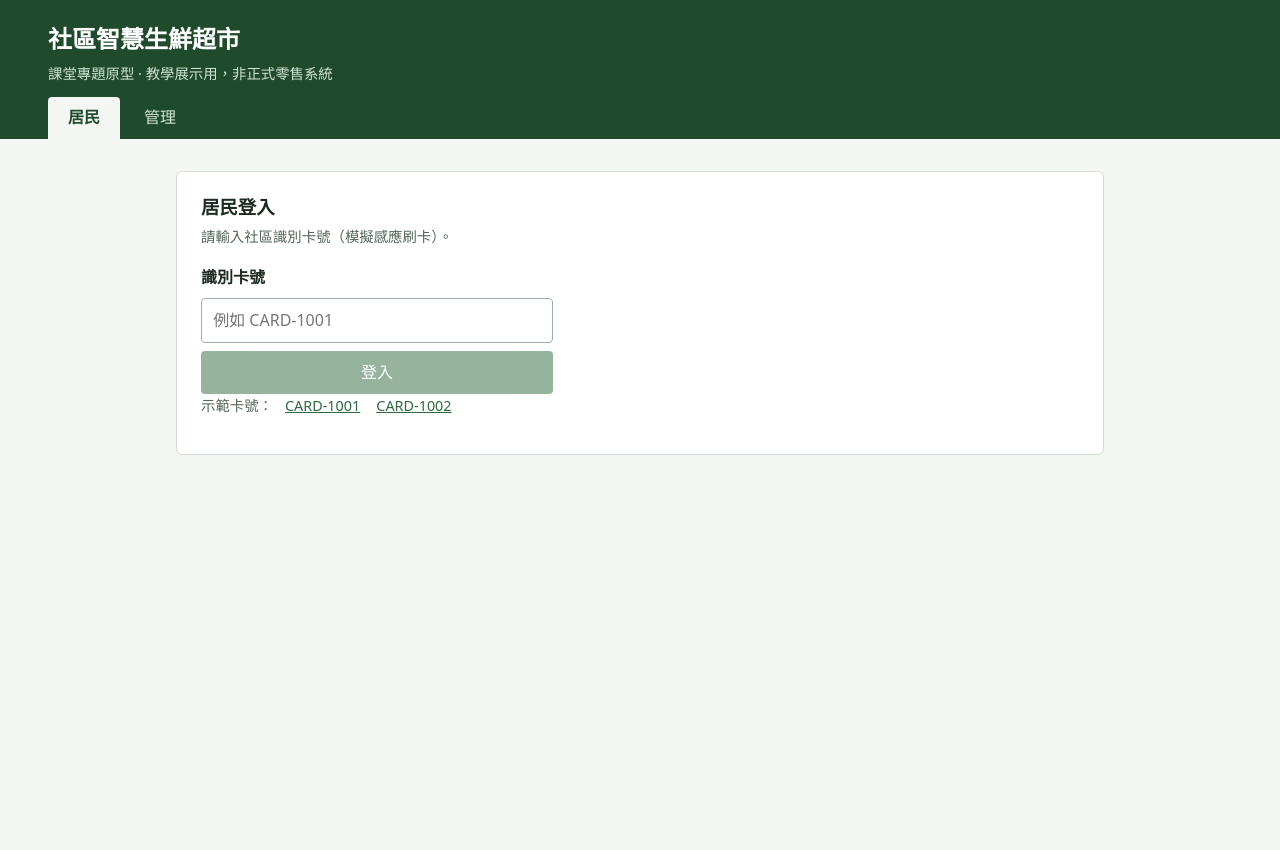
Test: shows why a replayed packet was rejected, with later steps marked not-run
Type "CARD-1001" into the field labelled "識別卡號" at (377, 321), box x1=201 y1=298 x2=553 y2=343
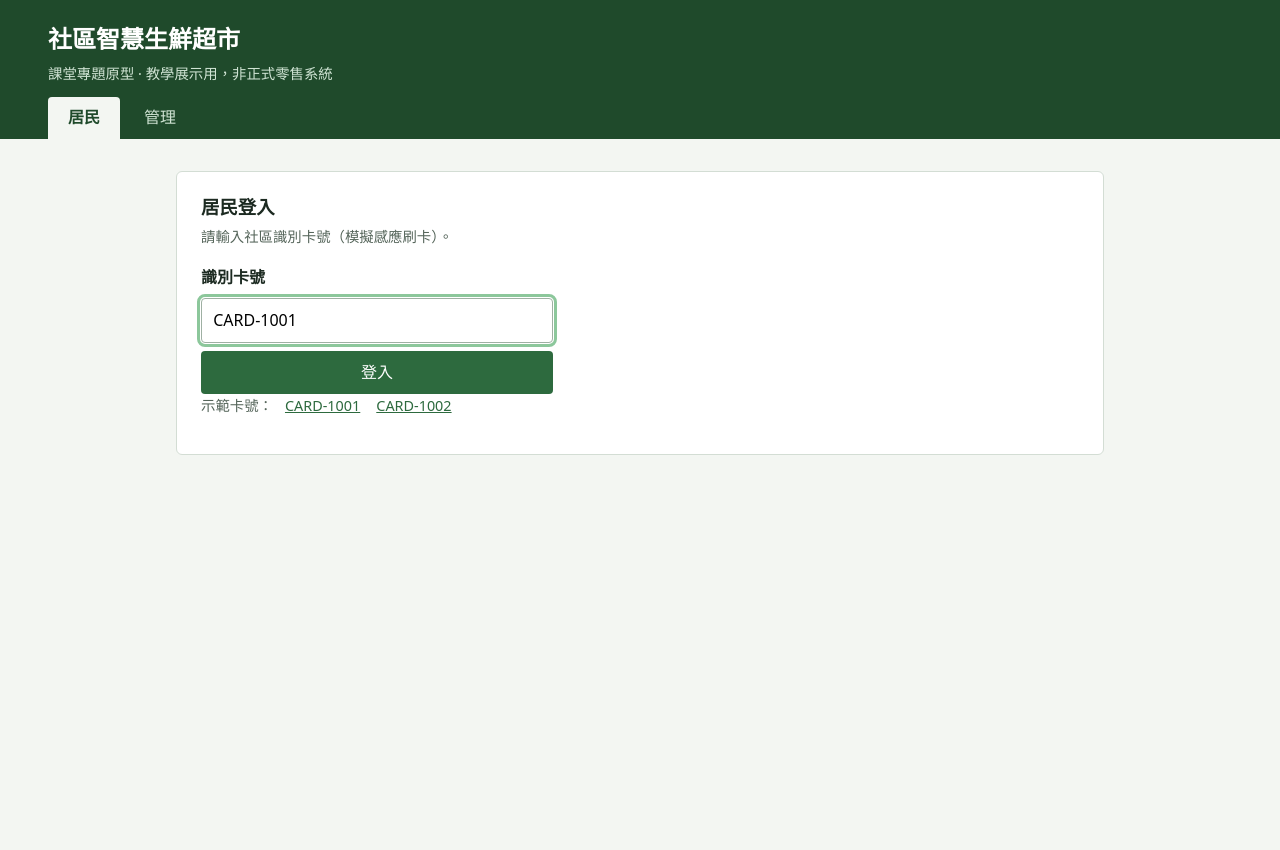
Click the button "登入" at (377, 373), box x1=201 y1=351 x2=553 y2=394
(page scrolled)
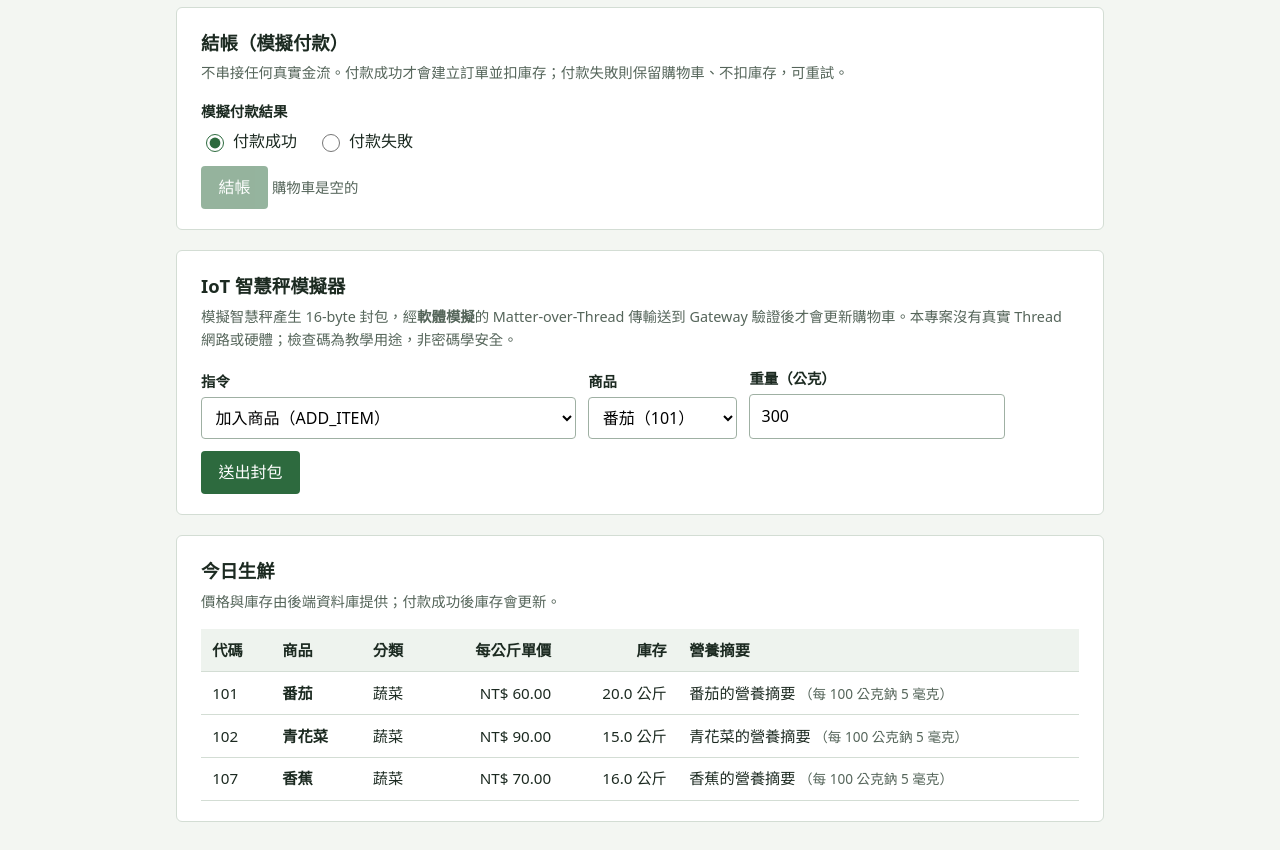
Click the button "送出封包" at (251, 473), box x1=201 y1=451 x2=300 y2=494
(page scrolled)
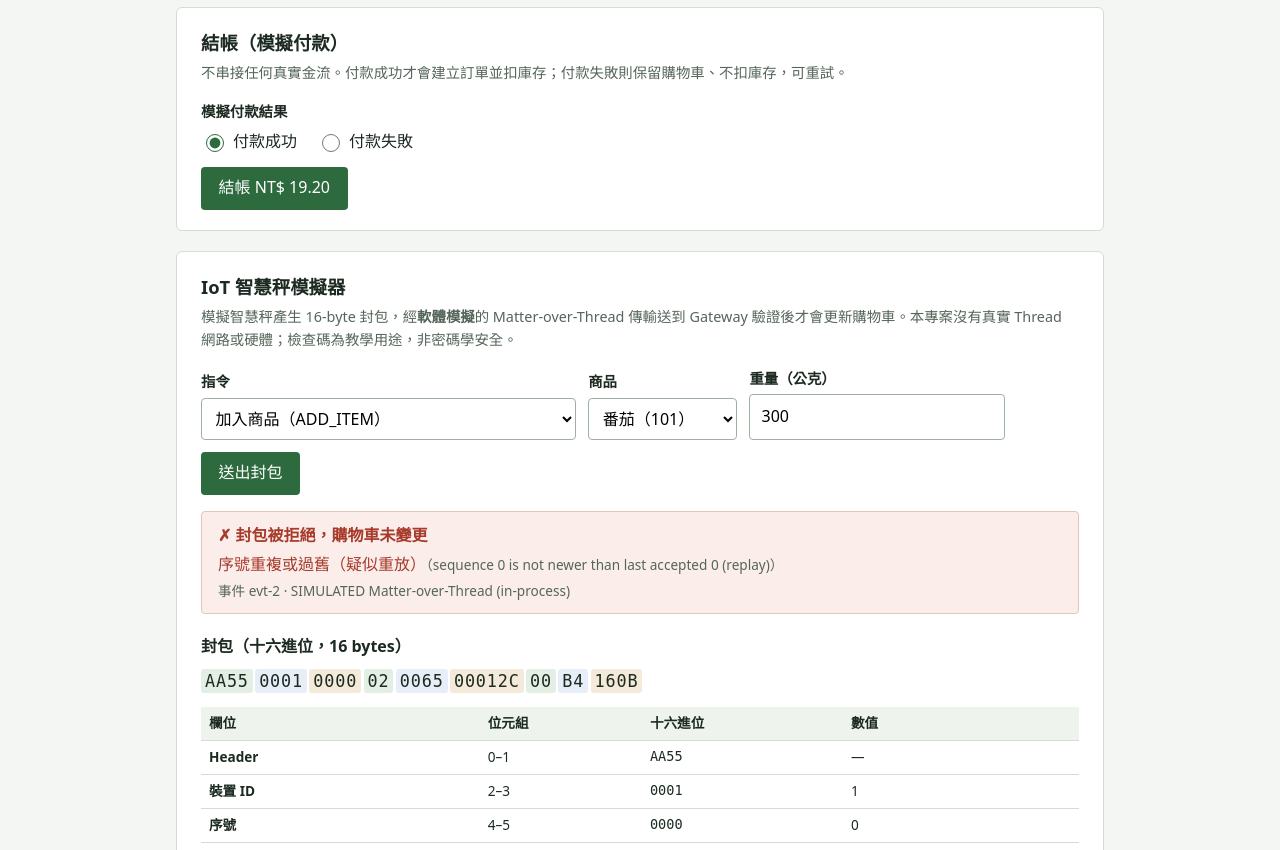
Now the text "✗ 封包被拒絕，購物車未變更" is shown, box x1=218 y1=524 x2=428 y2=546
Now the text "序號重複或過舊" is shown, box x1=218 y1=553 x2=426 y2=575
